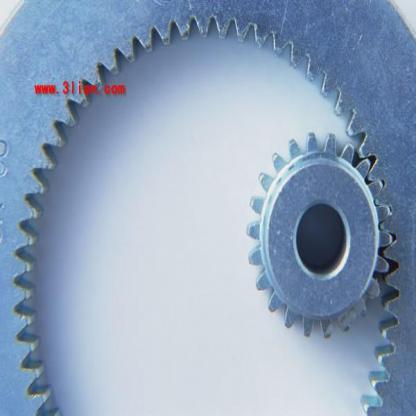FOD: (2, 0, 415, 415), (245, 126, 394, 344)
